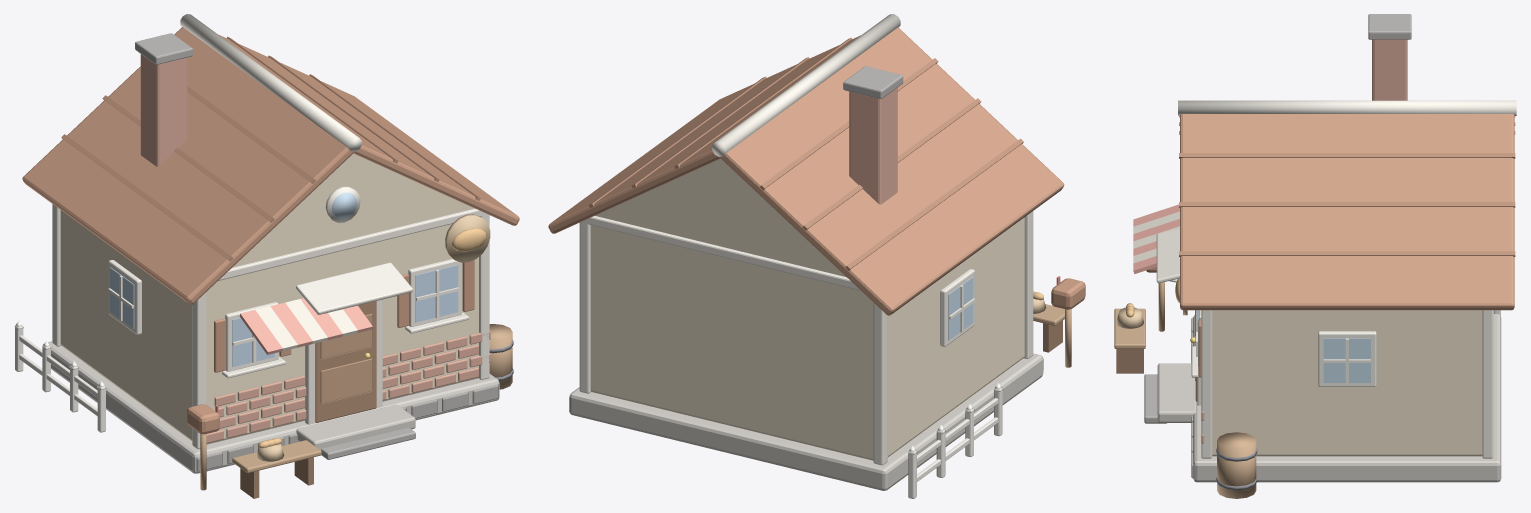
The model's file is casa_tobias.glb.
The picture shows the model from 3 angles, left to right: view 1: azimuth 30°, elevation 25°; view 2: azimuth 150°, elevation 25°; view 3: azimuth 270°, elevation 25°; orthographic projection. The views are drawn at different scales.
Visible parts, largest first — view 1: casa_tobias; view 2: casa_tobias; view 3: casa_tobias.
Boxes of the visible parts, box(x1,y1,x2,y2) form: casa_tobias: box(14, 14, 519, 498); casa_tobias: box(548, 14, 1085, 498); casa_tobias: box(1114, 14, 1516, 498).
Bounding box in the file's own units: 5.36 × 4.81 × 5.1.
